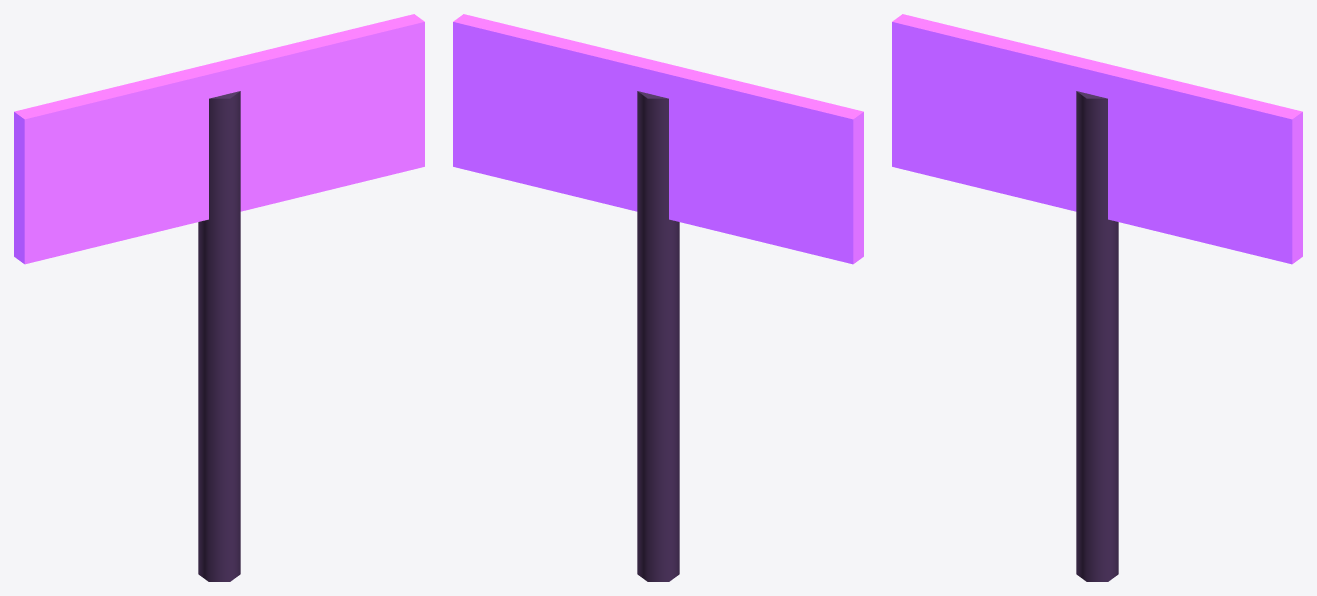
The model's file is hub-signpost.glb.
The picture shows the model from 3 angles, left to right: view 1: azimuth 30°, elevation 25°; view 2: azimuth 150°, elevation 25°; view 3: azimuth 330°, elevation 25°; orthographic projection.
Parts seen in each view (by area): view 1: board, post; view 2: board, post; view 3: board, post.
Part boxes in pixels (bbox=[...]): board: bbox=[14, 14, 424, 264]; post: bbox=[198, 91, 240, 581]; board: bbox=[453, 14, 863, 264]; post: bbox=[637, 91, 679, 581]; board: bbox=[892, 14, 1302, 264]; post: bbox=[1076, 91, 1118, 581].
Bounding box in the file's own units: 2.6 × 3.15 × 0.24.
